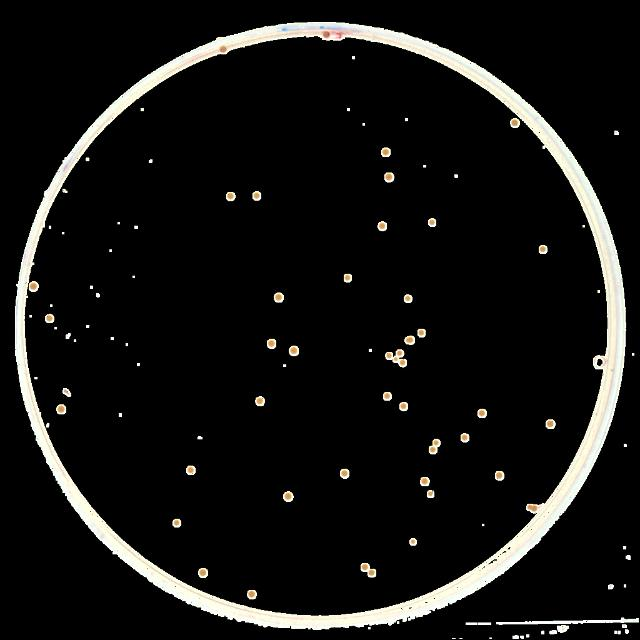colony: (286, 344, 306, 360), (54, 403, 70, 419), (426, 214, 440, 232), (252, 393, 268, 407), (341, 270, 355, 286), (382, 169, 396, 185), (378, 146, 394, 160), (544, 418, 560, 432), (216, 43, 230, 57), (249, 190, 263, 204), (508, 116, 522, 130), (492, 470, 506, 484), (26, 280, 40, 294), (537, 242, 549, 258), (225, 190, 238, 204), (318, 29, 330, 43), (376, 219, 388, 233), (398, 400, 410, 414), (42, 312, 56, 324), (197, 567, 210, 579), (272, 291, 284, 303), (266, 338, 278, 350), (402, 294, 414, 306), (338, 468, 350, 480), (282, 490, 294, 502), (185, 464, 197, 476), (417, 326, 427, 340), (420, 474, 430, 488), (172, 516, 182, 530), (246, 588, 256, 602), (477, 408, 488, 420), (458, 432, 469, 444), (404, 334, 414, 346), (384, 350, 394, 362), (425, 488, 435, 500), (408, 536, 418, 548), (382, 391, 392, 402), (398, 358, 408, 369), (367, 568, 378, 578), (432, 438, 442, 448), (360, 561, 370, 571), (396, 348, 404, 358), (428, 446, 438, 454), (530, 504, 538, 514), (392, 356, 400, 364), (526, 502, 532, 512)
